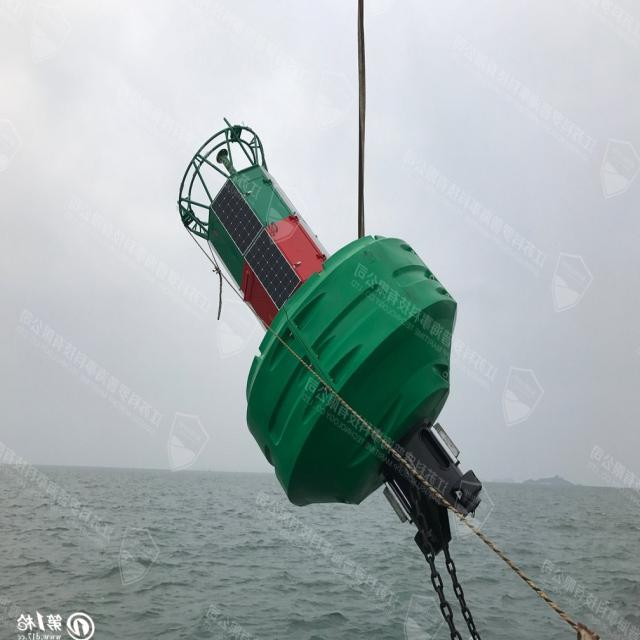buoy: (171, 113, 477, 533)
